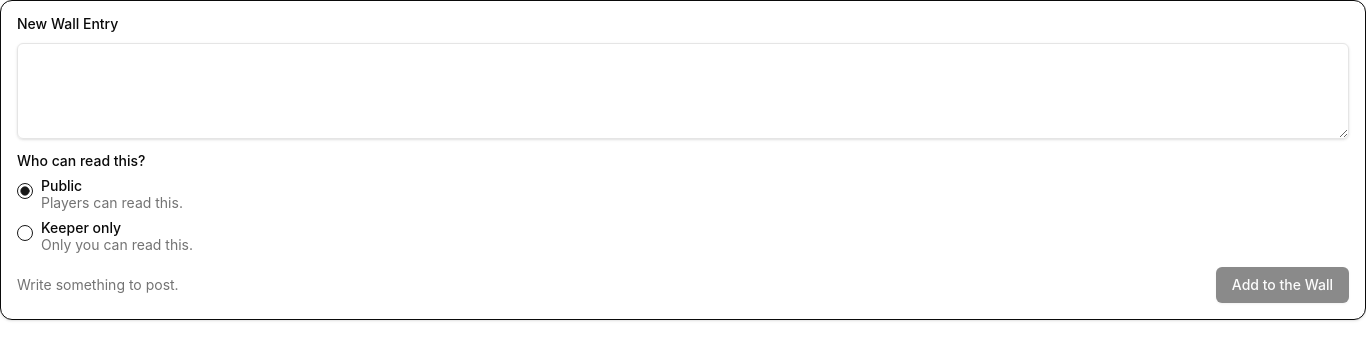
WallEntryComposer › counts the characters typed against the limit
Type "Door creaks." into the text box labelled "New Wall Entry" at (683, 91), box [17,43,1349,139]
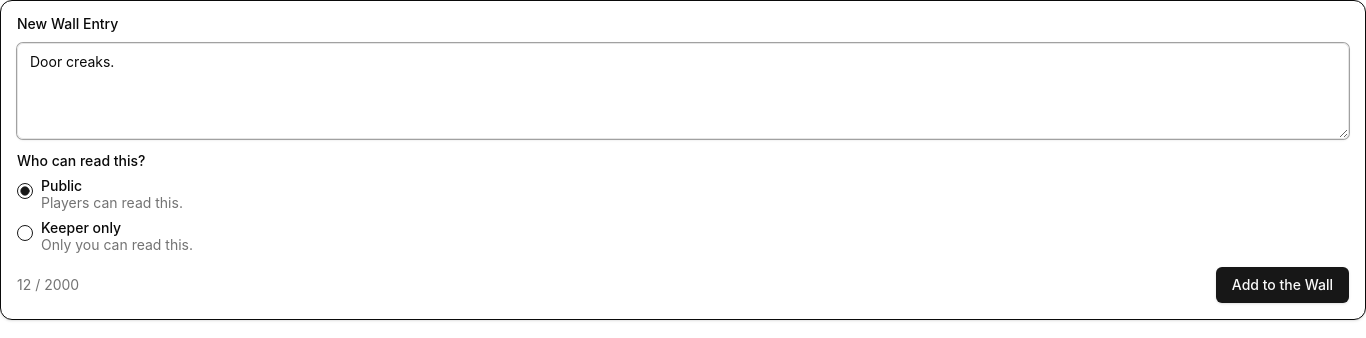
Now the text "12 / 2000" is shown, box [17,275,79,295]
